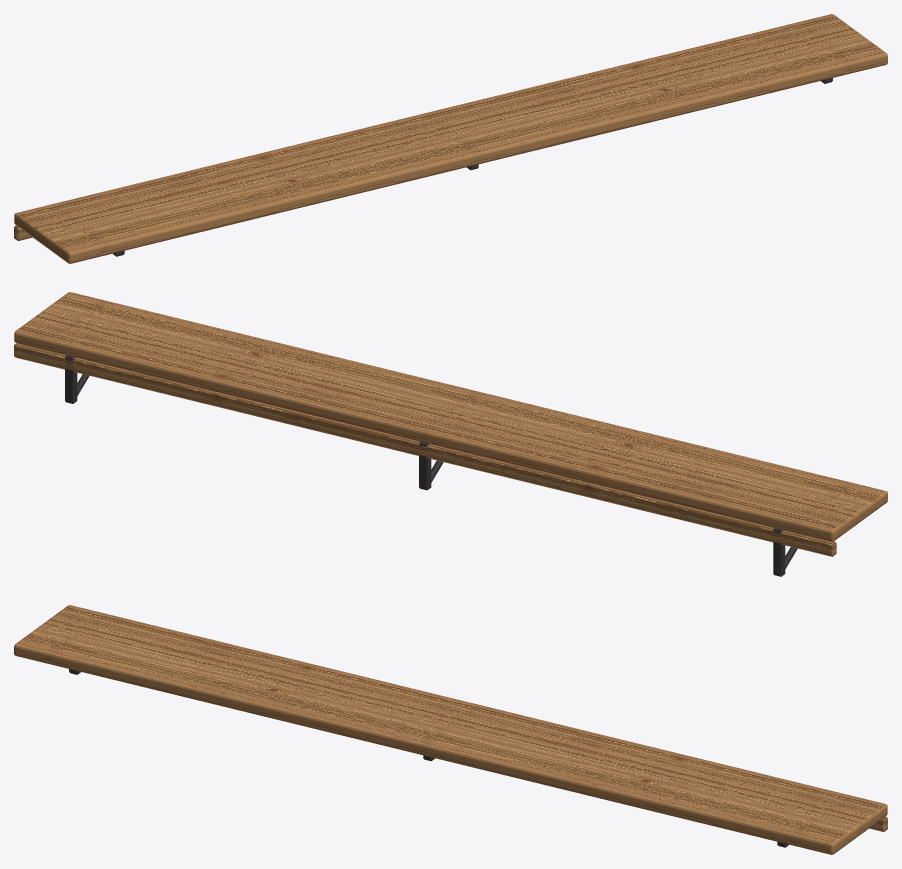
The model's file is shelf_long.glb.
The picture shows the model from 3 angles, top to bottom: view 1: azimuth 30°, elevation 25°; view 2: azimuth 150°, elevation 25°; view 3: azimuth 330°, elevation 25°; orthographic projection.
Parts seen in each view (by area): view 1: p; view 2: p; view 3: p.
Part boxes in pixels (left/top/right/bottom): p: left=14, top=14, right=887, bottom=263; p: left=14, top=292, right=887, bottom=576; p: left=14, top=605, right=887, bottom=854.
Size of the model in its own units: 2.2 by 0.15 by 0.26.
Materials: 2 (2 with a texture image).
